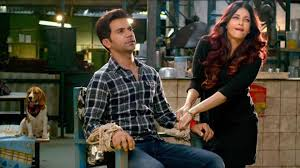Bad: (85, 1, 263, 125)
